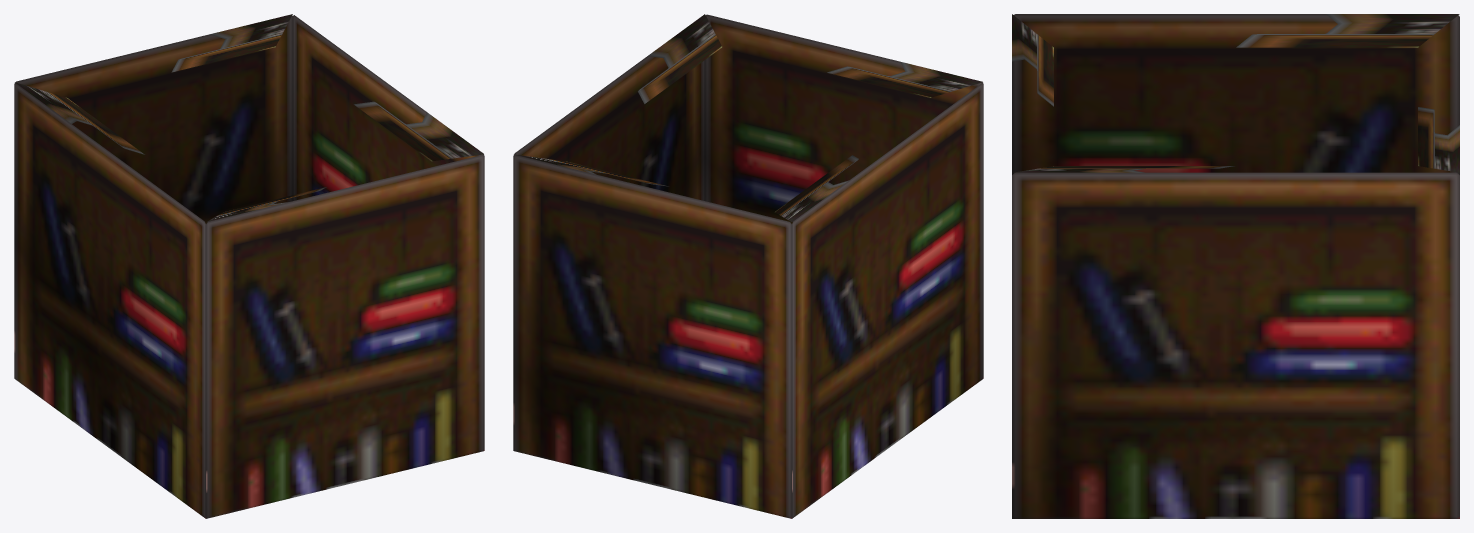
3 renders of one model, left to right at view 1: azimuth 30°, elevation 25°; view 2: azimuth 150°, elevation 25°; view 3: azimuth 270°, elevation 25°, orthographic. The views are drawn at different scales.
Parts seen in each view (by area): view 1: T1L6M003_31; view 2: T1L6M003_31; view 3: T1L6M003_31.
Part boxes in pixels (box(x1,y1,x2,y2)): T1L6M003_31: box(14, 14, 484, 518); T1L6M003_31: box(513, 14, 983, 518); T1L6M003_31: box(1012, 14, 1459, 518).
Size of the model in its own units: 1.73 by 1.76 by 2.06.
